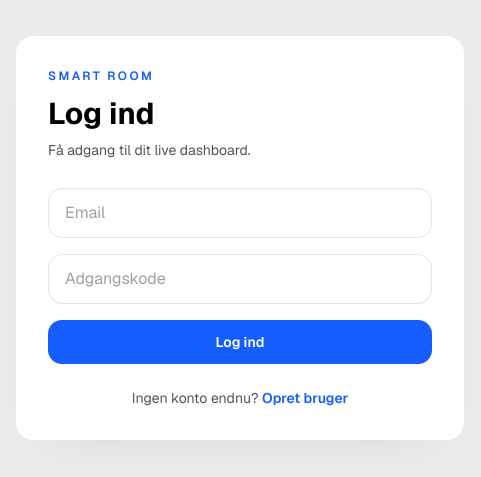
Test: LoginPage – formvalidering › viser fejl ved ugyldig email-format
The image size is (481, 477).
// Agér: skriv en ugyldig email og klik submit
Type "ikke-en-email" into the field with placeholder "Email" at x=240, y=213, box [48, 188, 432, 238]
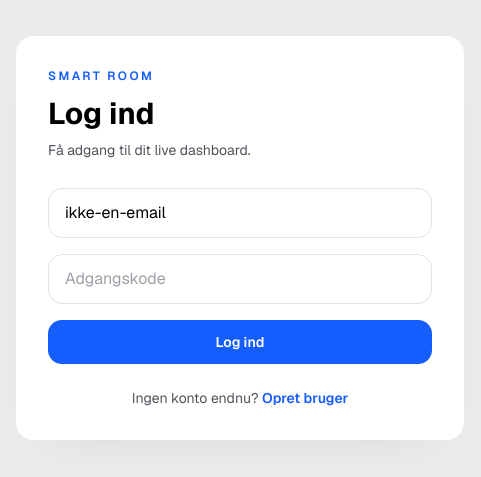
Click the button "Log ind" at x=240, y=342, box [48, 320, 432, 364]
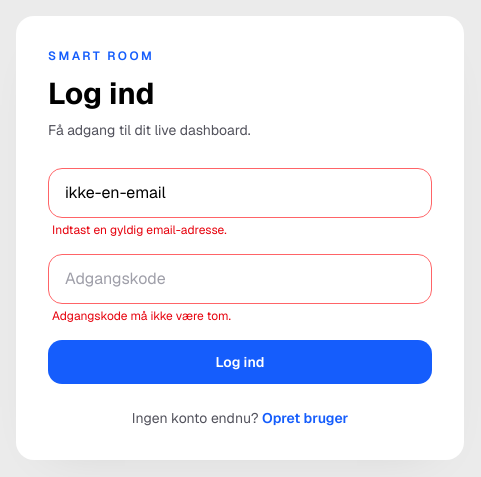
Now the text "Indtast en gyldig email-adresse." is shown, box [52, 222, 227, 238]
